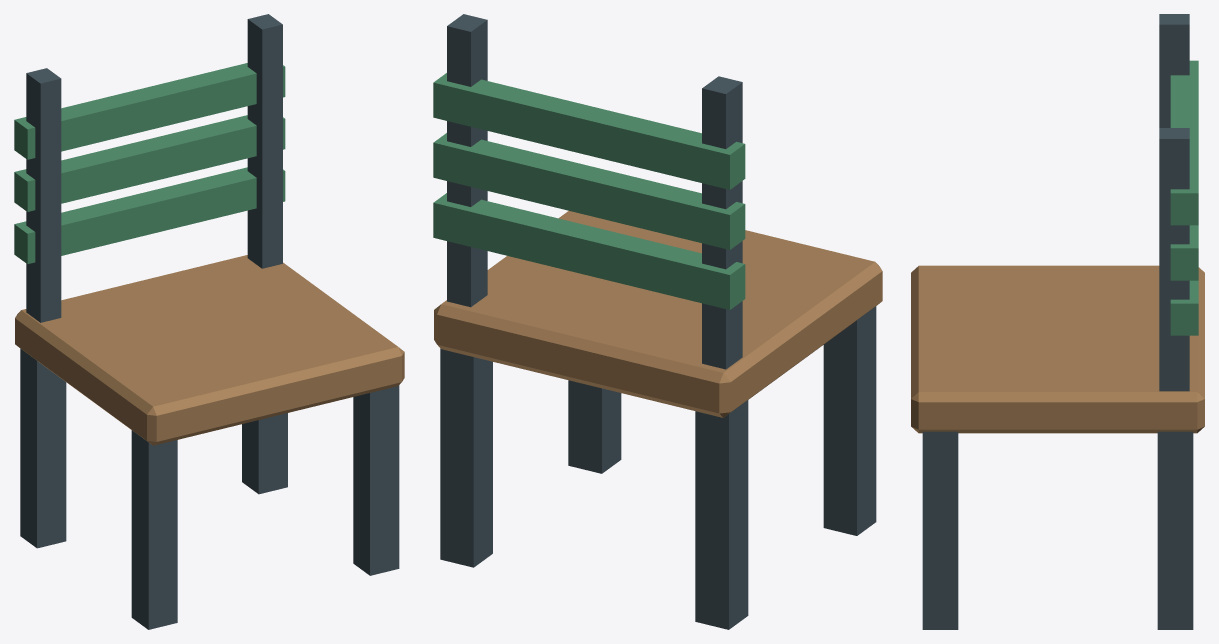
The model's file is patio_chair.glb.
3 views of the same model, side by side, from view 1: azimuth 30°, elevation 25°; view 2: azimuth 150°, elevation 25°; view 3: azimuth 270°, elevation 25° (orthographic). The views are drawn at different scales.
Visible parts, largest first — view 1: patio_chair; view 2: patio_chair; view 3: patio_chair.
Boxes of the visible parts, left/top/right/bottom form: patio_chair: left=14, top=14, right=404, bottom=629; patio_chair: left=433, top=14, right=882, bottom=629; patio_chair: left=911, top=14, right=1204, bottom=629.
Size of the model in its own units: 0.62 by 1.06 by 0.58.
